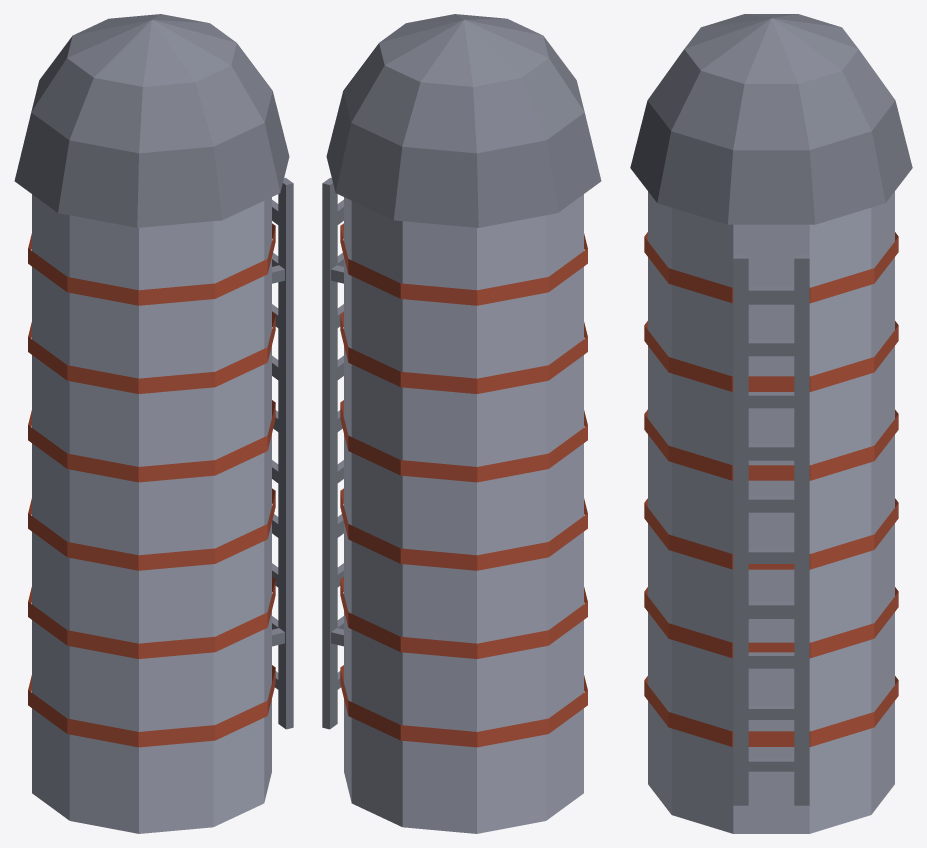
The model's file is barn_water.fbx.
3 views of the same model, side by side, from view 1: azimuth 30°, elevation 25°; view 2: azimuth 150°, elevation 25°; view 3: azimuth 270°, elevation 25° (orthographic).
Parts seen in each view (by area): view 1: barn_water; view 2: barn_water; view 3: barn_water.
Part boxes in pixels (left/top/right/bottom): barn_water: left=14, top=14, right=293, bottom=833; barn_water: left=322, top=14, right=601, bottom=833; barn_water: left=630, top=14, right=912, bottom=833.
Bounding box in the file's own units: 530 × 1621 × 542.
